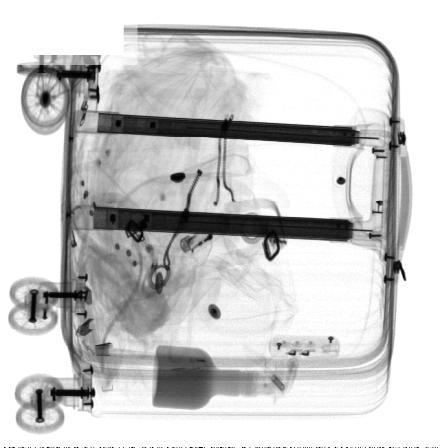Lighter: (180, 211, 234, 258)
